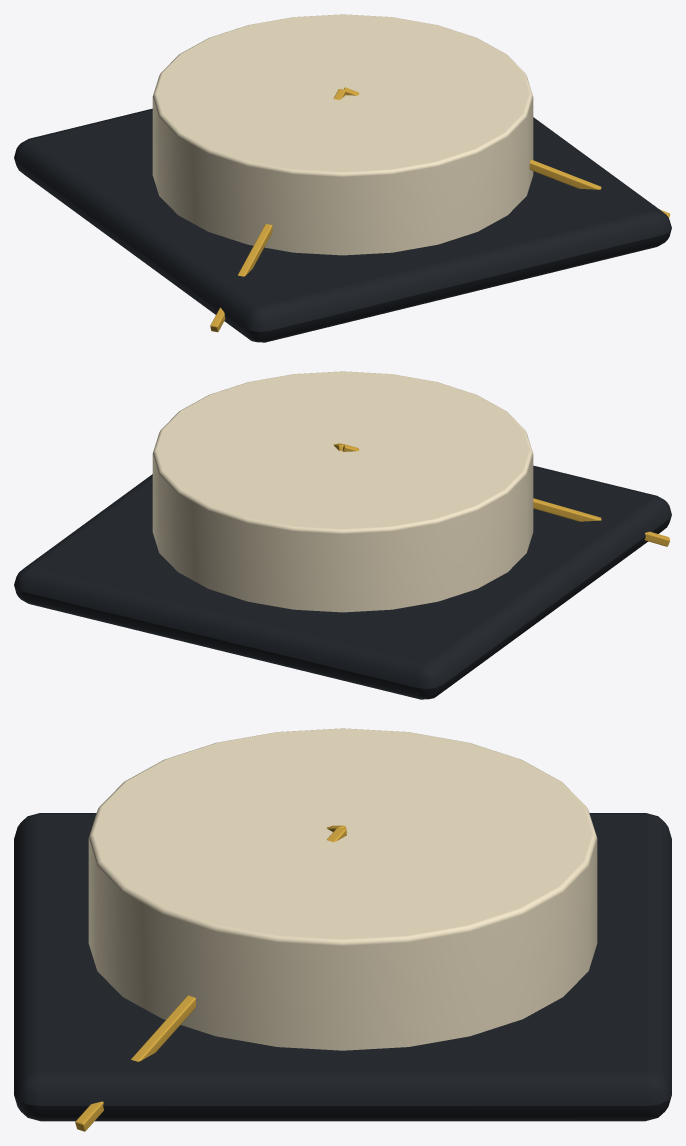
Rendered from arch_foot.glb.
The picture shows the model from 3 angles, top to bottom: view 1: azimuth 30°, elevation 25°; view 2: azimuth 150°, elevation 25°; view 3: azimuth 270°, elevation 25°; orthographic projection. The views are drawn at different scales.
Visible parts, largest first — view 1: ivory, ink, yellow; view 2: ivory, ink, yellow; view 3: ivory, ink, yellow.
Boxes of the visible parts, bbox=[...] form: ivory: bbox=[152, 14, 533, 255]; ink: bbox=[14, 108, 671, 342]; yellow: bbox=[210, 87, 670, 332]; ivory: bbox=[152, 371, 533, 612]; ink: bbox=[14, 465, 671, 699]; yellow: bbox=[334, 443, 669, 546]; ivory: bbox=[88, 728, 597, 1050]; ink: bbox=[14, 813, 671, 1121]; yellow: bbox=[75, 825, 346, 1131].
Bounding box in the file's own units: 1.62 × 0.4106 × 1.5.
